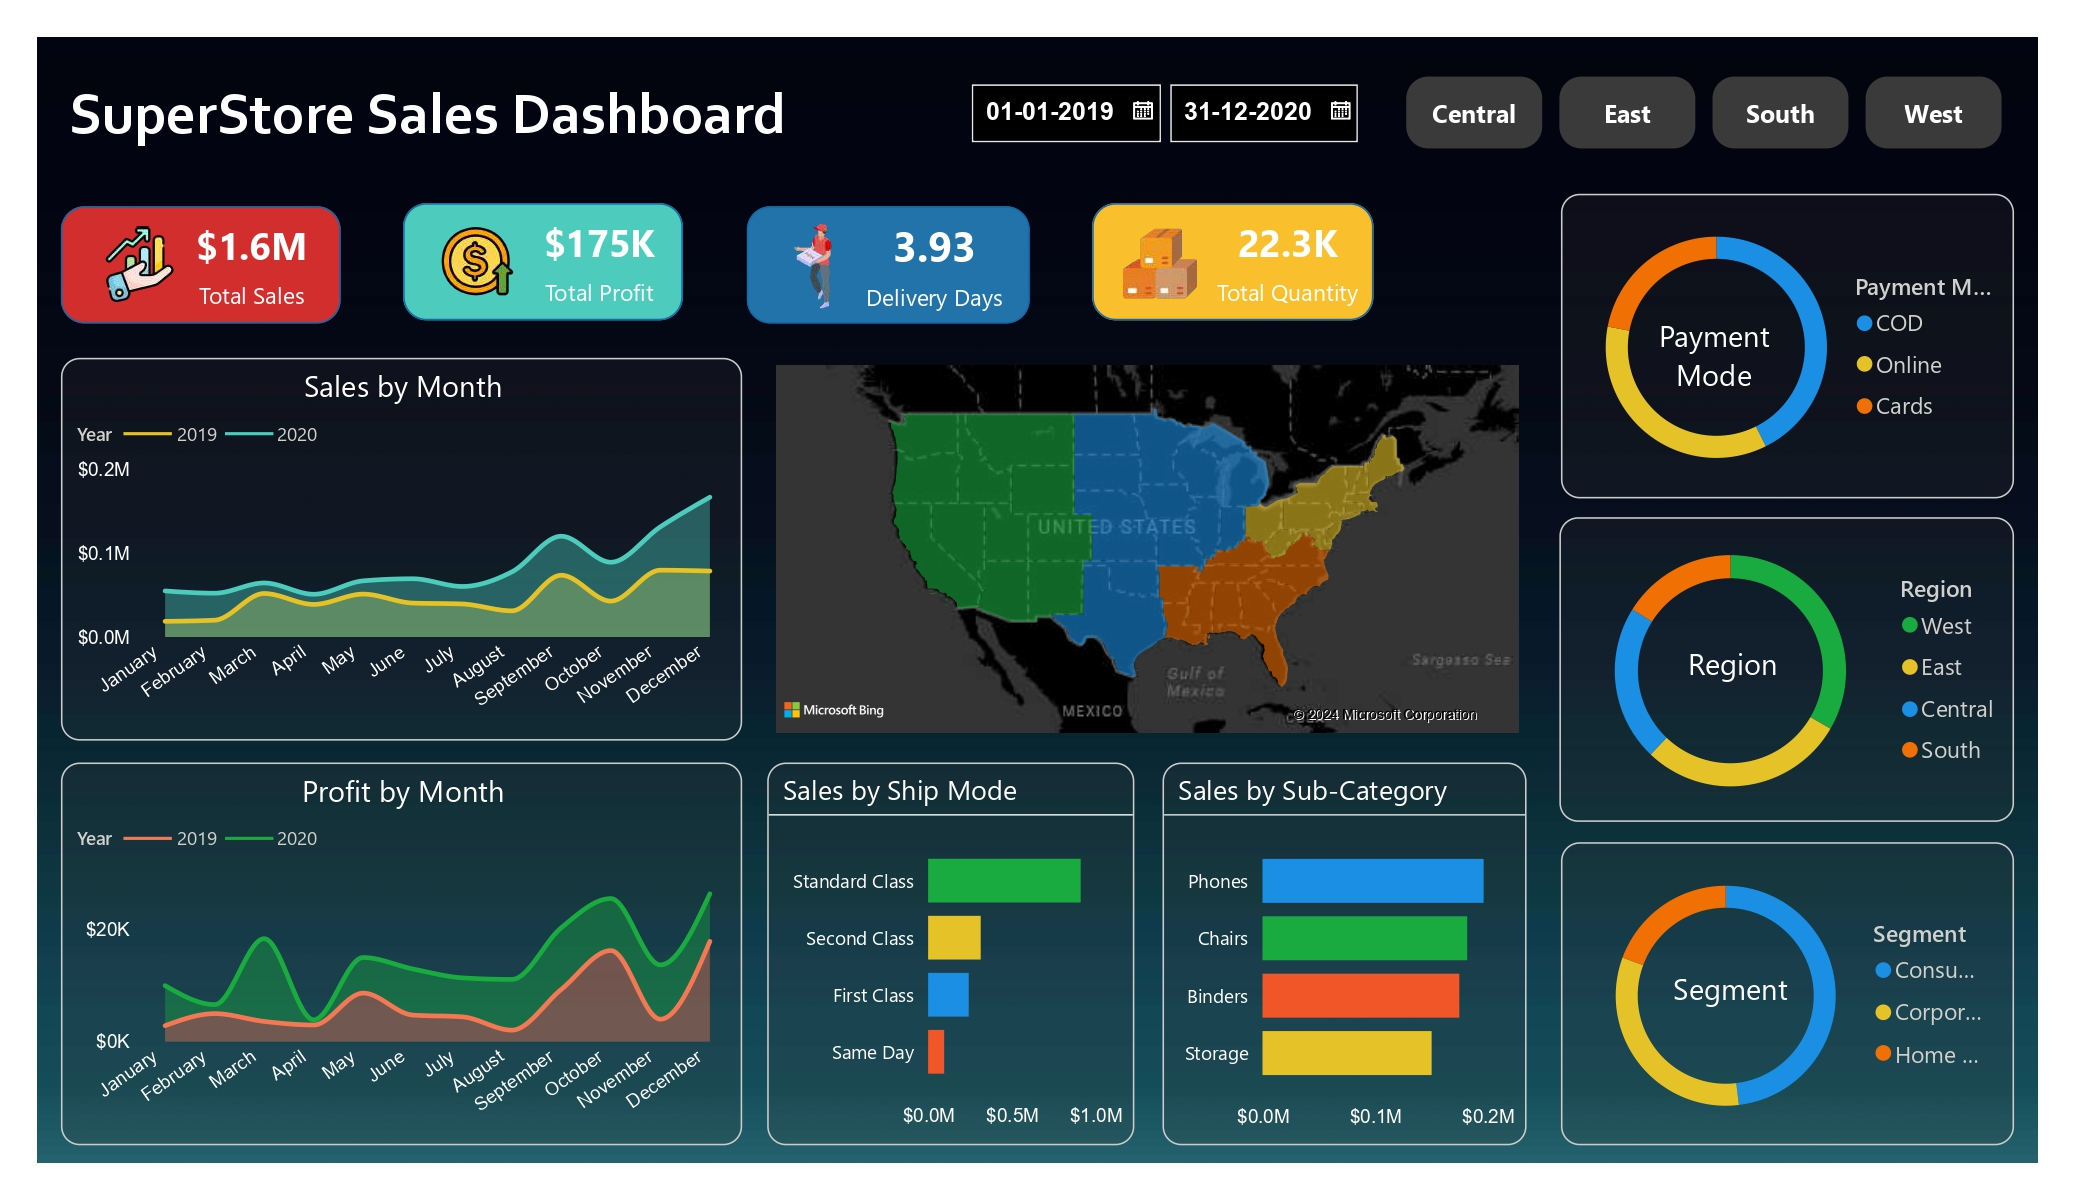

The page's visual inventory and layout, read from the dashboard file:
{"tool":"powerbi","page":{"name":"Page 1","canvas":[1280,720],"ordinal":0},"visuals":[{"type":"shape","box":[674.7,106.4,180.7,74.6],"z":0},{"type":"shape","box":[454.2,108,180.7,74.6],"z":1000},{"type":"shape","box":[233.7,106.4,179.1,74.6],"z":2000},{"type":"shape","box":[14.8,108,179.1,74.6],"z":3000},{"type":"donutChart","fields":{"Y":["Sum(SuperStore_Sales_Dataset.Sales)"],"Category":["SuperStore_Sales_Dataset.Payment Mode"]},"box":[974.5,100,290.9,194.5],"z":4000},{"type":"donutChart","title":"Sales by","fields":{"Y":["Sum(SuperStore_Sales_Dataset.Sales)"],"Category":["SuperStore_Sales_Dataset.Region"]},"box":[974,307.3,290.9,194.5],"z":5000},{"type":"donutChart","fields":{"Y":["Sum(SuperStore_Sales_Dataset.Sales)"],"Category":["SuperStore_Sales_Dataset.Segment"]},"box":[974.5,514.5,290.9,194.5],"z":6000},{"type":"areaChart","title":"Sales by Month","fields":{"Category":["SuperStore_Sales_Dataset.Order Date.Variation.Date Hierarchy.Month"],"Y":["Sum(SuperStore_Sales_Dataset.Sales)"],"Series":["SuperStore_Sales_Dataset.Order Date.Variation.Date Hierarchy.Year"]},"box":[14.9,204.9,436.4,245.5],"z":7000},{"type":"stackedAreaChart","title":"Profit by Month","fields":{"Category":["SuperStore_Sales_Dataset.Order Date.Variation.Date Hierarchy.Month"],"Y":["Sum(SuperStore_Sales_Dataset.Profit)"],"Series":["SuperStore_Sales_Dataset.Order Date.Variation.Date Hierarchy.Year"]},"box":[14.5,463.6,436.4,245.5],"z":8000},{"type":"barChart","title":"Sales by Ship Mode","fields":{"Y":["Sum(SuperStore_Sales_Dataset.Sales)"],"Category":["SuperStore_Sales_Dataset.Ship Mode"]},"box":[467.3,463.6,234.5,245.5],"z":9000},{"type":"barChart","title":"Sales by Sub-Category","fields":{"Y":["Sum(SuperStore_Sales_Dataset.Sales)"],"Category":["SuperStore_Sales_Dataset.Sub-Category"]},"box":[720,463.6,232.7,245.5],"z":10000},{"type":"card","fields":{"Values":["Sum(SuperStore_Sales_Dataset.Quantity)"]},"box":[738.1,106.5,124.4,73],"z":11000},{"type":"card","fields":{"Values":["Avg(SuperStore_Sales_Dataset.Avg. Delivery Days)"]},"box":[491.1,108.1,165.8,73],"z":12000},{"type":"card","fields":{"Values":["Sum(SuperStore_Sales_Dataset.Profit)"]},"box":[308.7,106.5,101.1,73],"z":13000},{"type":"card","fields":{"Values":["Sum(SuperStore_Sales_Dataset.Sales)"]},"box":[83.2,108.1,107.8,73],"z":14000},{"type":"textbox","box":[14.5,20,514.5,65.5],"z":15000},{"type":"filledMap","fields":{"Category":["SuperStore_Sales_Dataset.State"],"Series":["SuperStore_Sales_Dataset.Region"]},"box":[467.6,204.9,485.5,245.5],"z":16000},{"type":"advancedSlicerVisual","fields":{"Values":["SuperStore_Sales_Dataset.Region"]},"box":[870.9,20,394.5,56.4],"z":17000},{"type":"slicer","fields":{"Values":["SuperStore_Sales_Dataset.Order Date"]},"box":[584.7,20.3,266.1,55.9],"z":18000},{"type":"textbox","box":[1033.9,383.1,96.6,44.1],"z":19000},{"type":"textbox","box":[1025.6,173.3,94.4,65.6],"z":20000},{"type":"textbox","box":[1024.4,591.1,118.9,43.3],"z":21000},{"type":"image","box":[25.2,116.4,79.6,58],"z":22000},{"type":"image","box":[249.6,113.1,63,59.7],"z":23000},{"type":"image","box":[456.3,111.5,79.6,69.6],"z":24000},{"type":"image","box":[686.7,116.4,63,56.4],"z":25000}]}

Visuals, with their boxes on the page's 1280x720 design canvas (x1, y1, x2, y2). These are canvas units, not pixel positions in the 2075x1200 screenshot, which may show the page scaled, cropped or inside an application window:
shape: <bbox>675, 106, 855, 181</bbox>
shape: <bbox>454, 108, 635, 183</bbox>
shape: <bbox>234, 106, 413, 181</bbox>
shape: <bbox>15, 108, 194, 183</bbox>
donutChart - Sum(SuperStore_Sales_Dataset.Sales) x SuperStore_Sales_Dataset.Payment Mode: <bbox>974, 100, 1265, 294</bbox>
"Sales by" donutChart: <bbox>974, 307, 1265, 502</bbox>
donutChart - Sum(SuperStore_Sales_Dataset.Sales) x SuperStore_Sales_Dataset.Segment: <bbox>974, 514, 1265, 709</bbox>
"Sales by Month" areaChart: <bbox>15, 205, 451, 450</bbox>
"Profit by Month" stackedAreaChart: <bbox>14, 464, 451, 709</bbox>
"Sales by Ship Mode" barChart: <bbox>467, 464, 702, 709</bbox>
"Sales by Sub-Category" barChart: <bbox>720, 464, 953, 709</bbox>
card - Sum(SuperStore_Sales_Dataset.Quantity): <bbox>738, 106, 862, 180</bbox>
card - Avg(SuperStore_Sales_Dataset.Avg. Delivery Days): <bbox>491, 108, 657, 181</bbox>
card - Sum(SuperStore_Sales_Dataset.Profit): <bbox>309, 106, 410, 180</bbox>
card - Sum(SuperStore_Sales_Dataset.Sales): <bbox>83, 108, 191, 181</bbox>
textbox: <bbox>14, 20, 529, 86</bbox>
filledMap - SuperStore_Sales_Dataset.State x SuperStore_Sales_Dataset.Region: <bbox>468, 205, 953, 450</bbox>
advancedSlicerVisual - SuperStore_Sales_Dataset.Region: <bbox>871, 20, 1265, 76</bbox>
slicer - SuperStore_Sales_Dataset.Order Date: <bbox>585, 20, 851, 76</bbox>
textbox: <bbox>1034, 383, 1130, 427</bbox>
textbox: <bbox>1026, 173, 1120, 239</bbox>
textbox: <bbox>1024, 591, 1143, 634</bbox>
image: <bbox>25, 116, 105, 174</bbox>
image: <bbox>250, 113, 313, 173</bbox>
image: <bbox>456, 112, 536, 181</bbox>
image: <bbox>687, 116, 750, 173</bbox>
